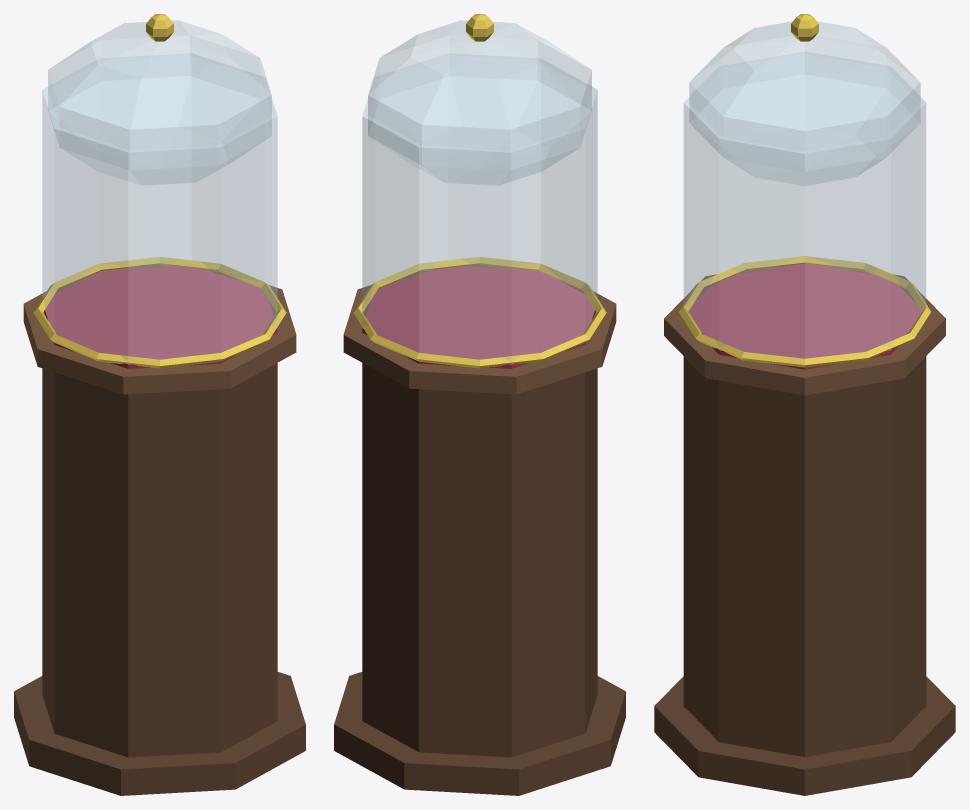
The model's file is cab_pedestal_dome.glb.
3 views of the same model, side by side, from view 1: azimuth 30°, elevation 25°; view 2: azimuth 150°, elevation 25°; view 3: azimuth 270°, elevation 25° (orthographic).
Visible parts, largest first — view 1: cab_pedestal_dome; view 2: cab_pedestal_dome; view 3: cab_pedestal_dome.
Part boxes in pixels (bbox=[...]): cab_pedestal_dome: bbox=[14, 14, 305, 795]; cab_pedestal_dome: bbox=[334, 14, 625, 795]; cab_pedestal_dome: bbox=[654, 14, 955, 795].
Size of the model in its own units: 0.62 by 1.63 by 0.62.
